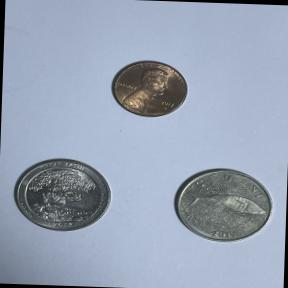coin: (166, 164, 279, 248), (4, 154, 118, 234), (102, 54, 196, 123)
